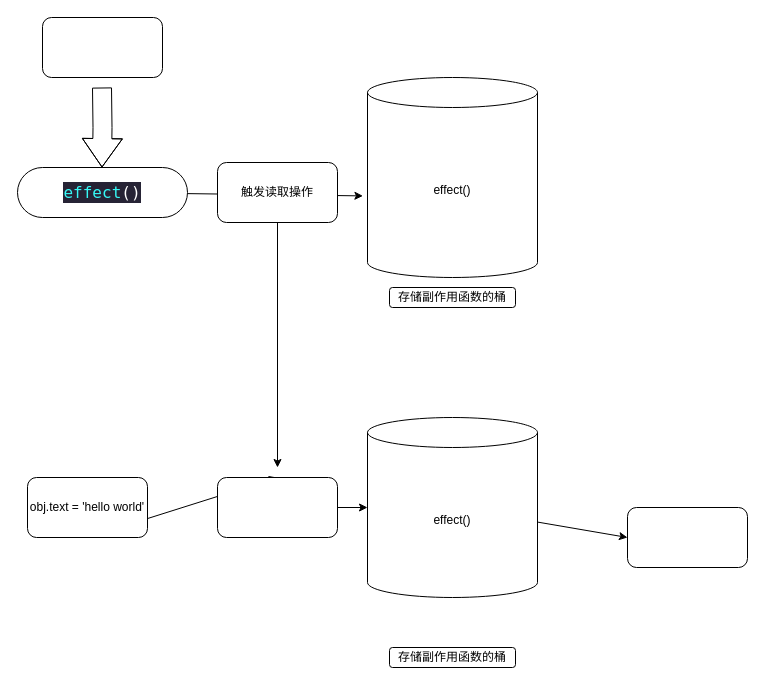
Image size: 765x685. Some labels were removed from this diagram. The shapes that lost their labels are listed below. From the top down, each one's centre as x and y in pixels, then its label:
(102,47): 执行Effect函数
(277,507): 触发设置操作
(687,537): 取出effect并执行
